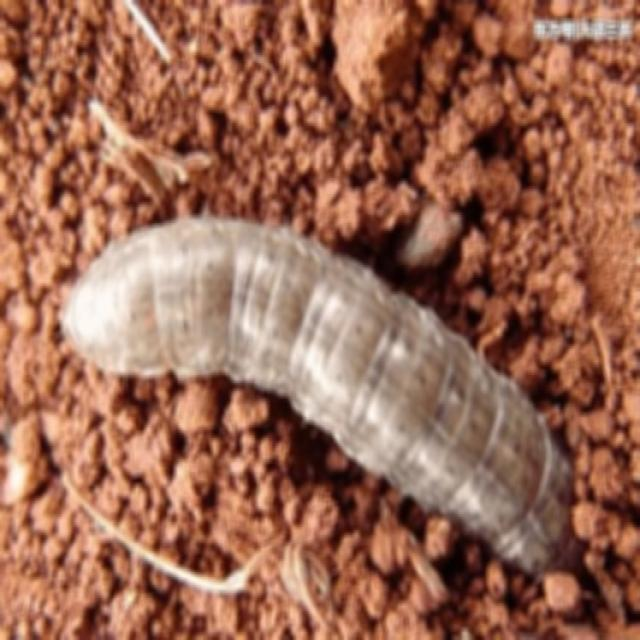black cutworm: (56, 204, 577, 580)
